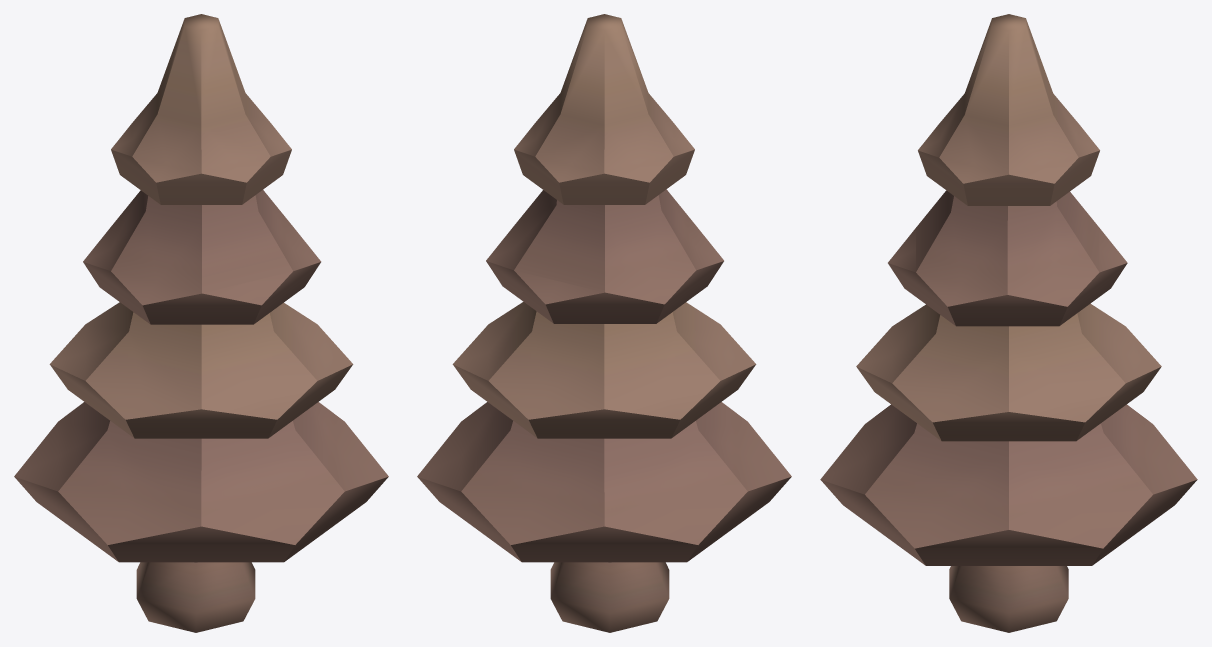
The model's file is pine-fall.glb.
The picture shows the model from 3 angles, left to right: view 1: azimuth 30°, elevation 25°; view 2: azimuth 150°, elevation 25°; view 3: azimuth 270°, elevation 25°; orthographic projection.
Visible parts, largest first — view 1: pine-fall; view 2: pine-fall; view 3: pine-fall.
Part boxes in pixels (box(x1,y1,x2,y2)): pine-fall: box(14, 14, 388, 632); pine-fall: box(417, 14, 791, 632); pine-fall: box(820, 14, 1197, 632).
Size of the model in its own units: 3.53 by 6.91 by 4.
1 material, 1 textured.
